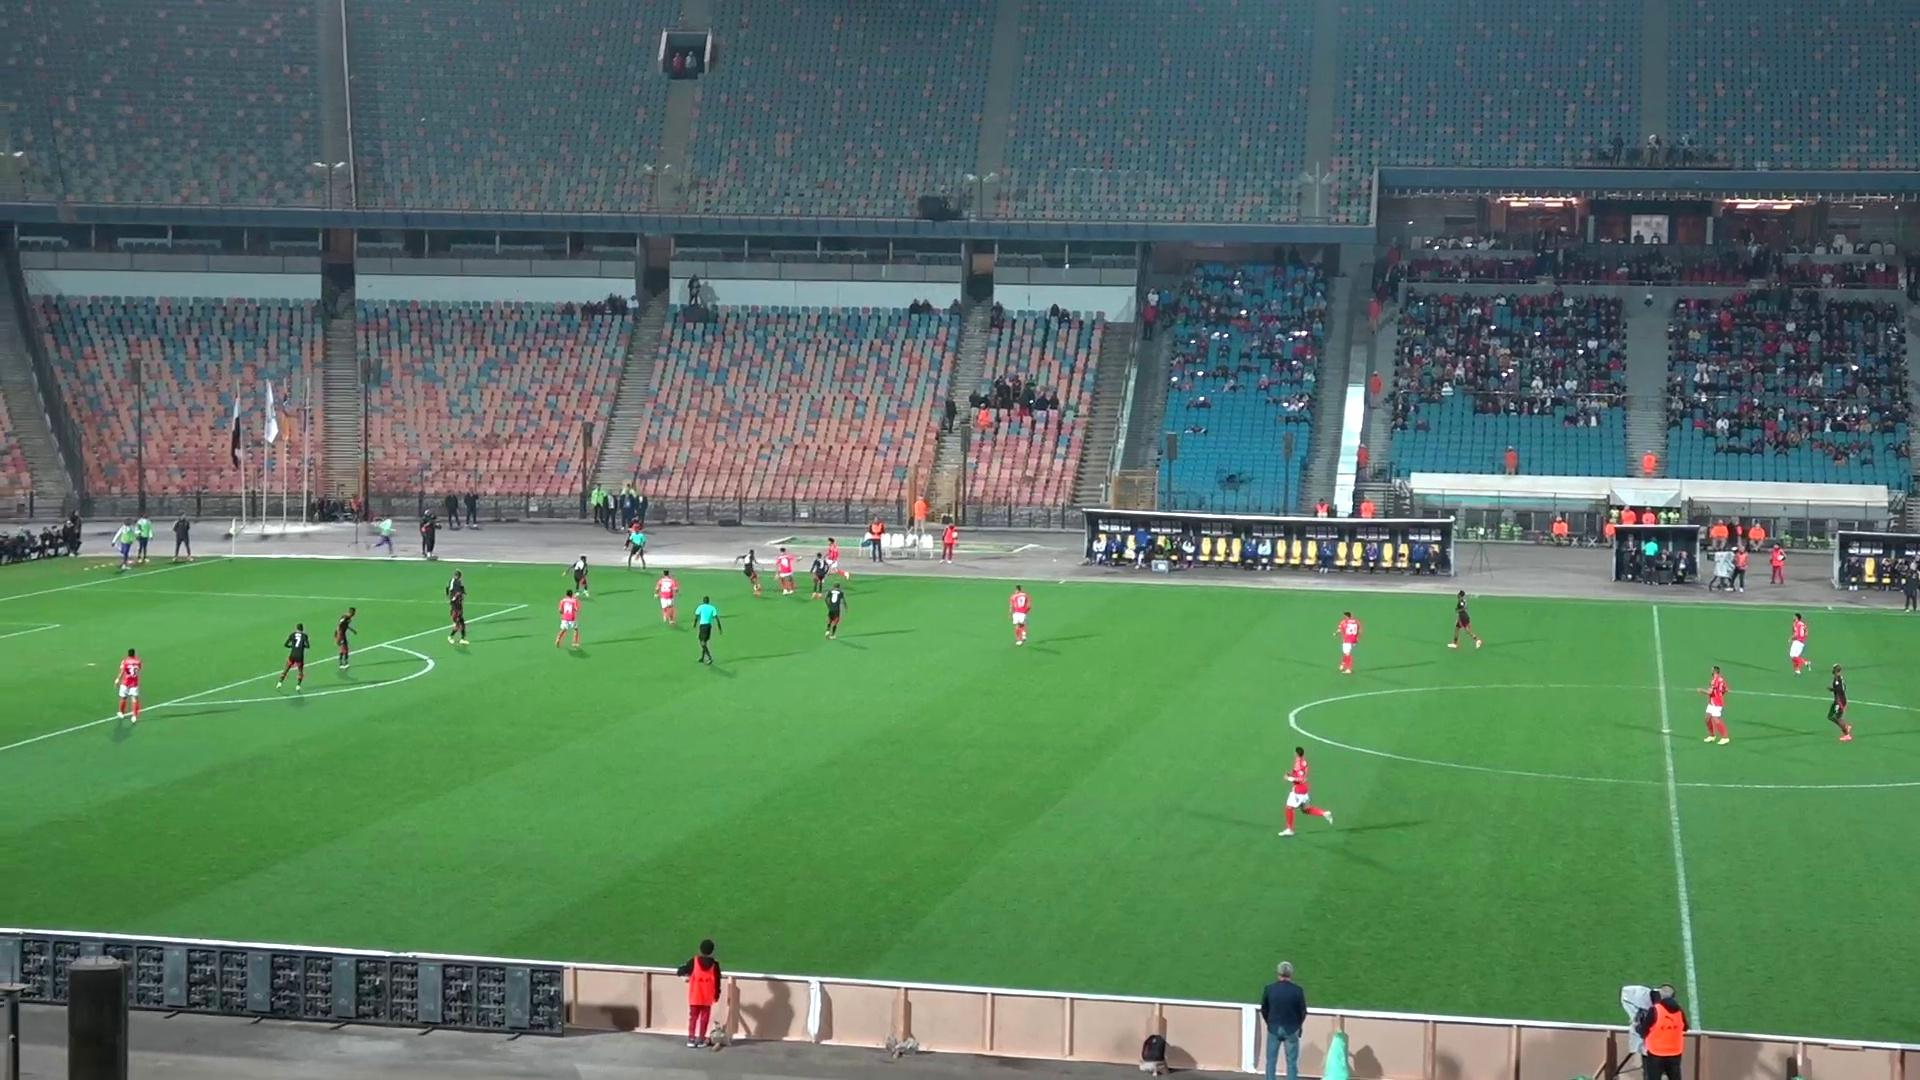Refree: (692, 595, 723, 665), (625, 524, 649, 566)
Team1: (1278, 746, 1331, 833), (1697, 665, 1730, 745), (113, 647, 142, 723), (1335, 611, 1364, 674), (555, 589, 582, 647), (814, 538, 851, 578), (1007, 585, 1033, 644), (1787, 612, 1809, 674), (654, 570, 679, 625), (773, 546, 796, 595)
Team2: (1447, 592, 1484, 647), (277, 624, 310, 686), (814, 582, 848, 638), (1826, 665, 1851, 740), (332, 608, 357, 670), (446, 571, 467, 644), (736, 550, 764, 596), (562, 555, 593, 595), (808, 551, 829, 596)
